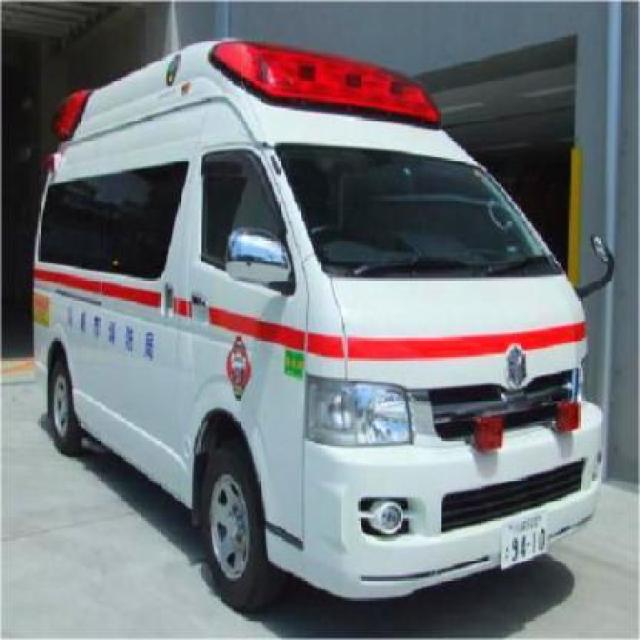Ambulance: (24, 56, 640, 599)
